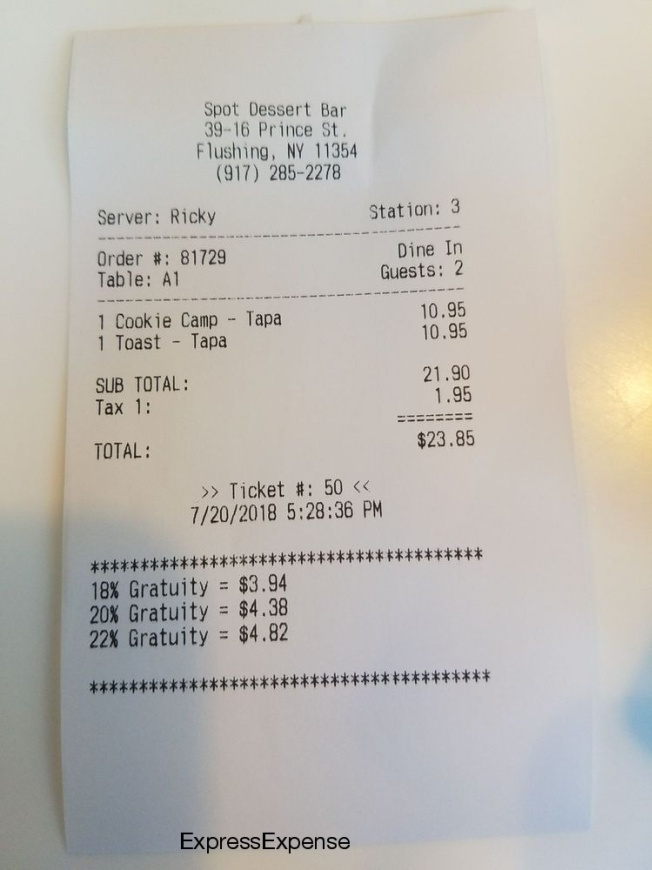Additional details: (72, 471, 506, 688)
Purchase summary: (91, 193, 482, 459)
Receipt: (59, 2, 603, 803)
Shop details: (185, 85, 367, 192)
